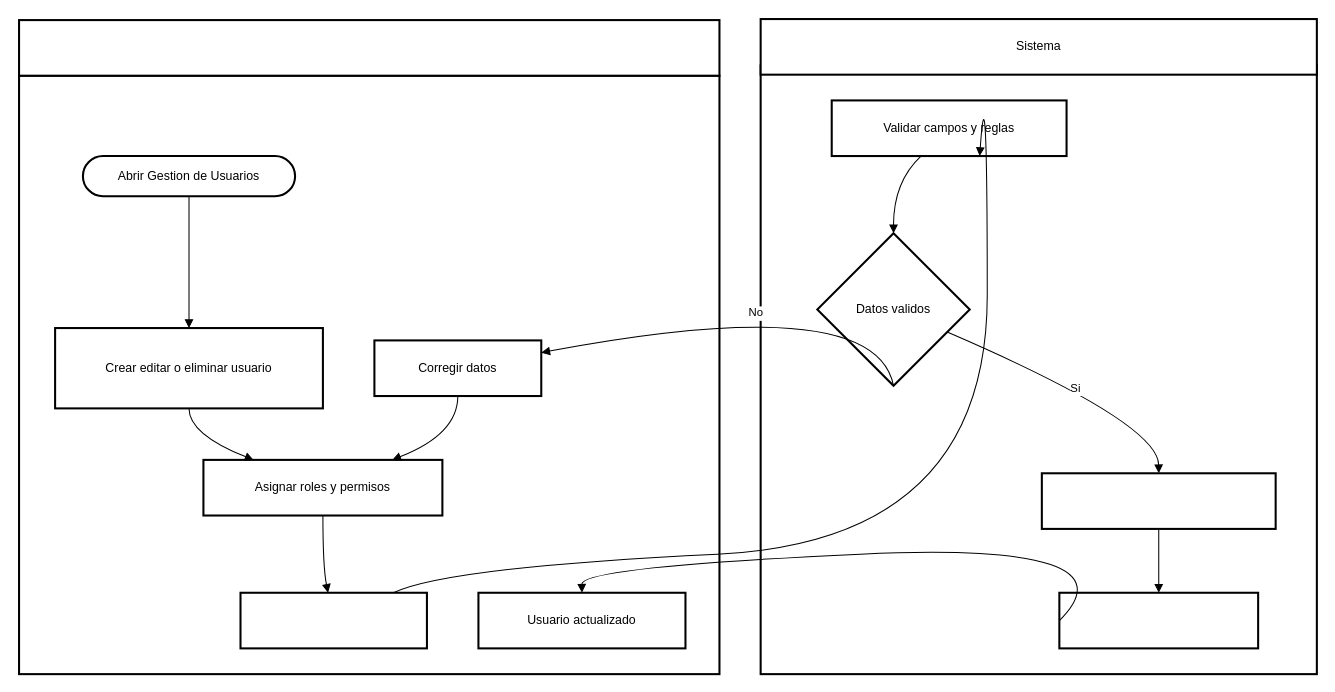
Image size: 1335x692. Some labels were removed from this diagram. Here are the shapes that lost their labels. From the top down, the box of each, then its label:
(18, 19, 720, 76): Administrador
(1040, 472, 1276, 529): Persistir cambios en BD
(239, 591, 427, 649): Guardar cambios
(1058, 591, 1259, 649): Registrar auditoria
